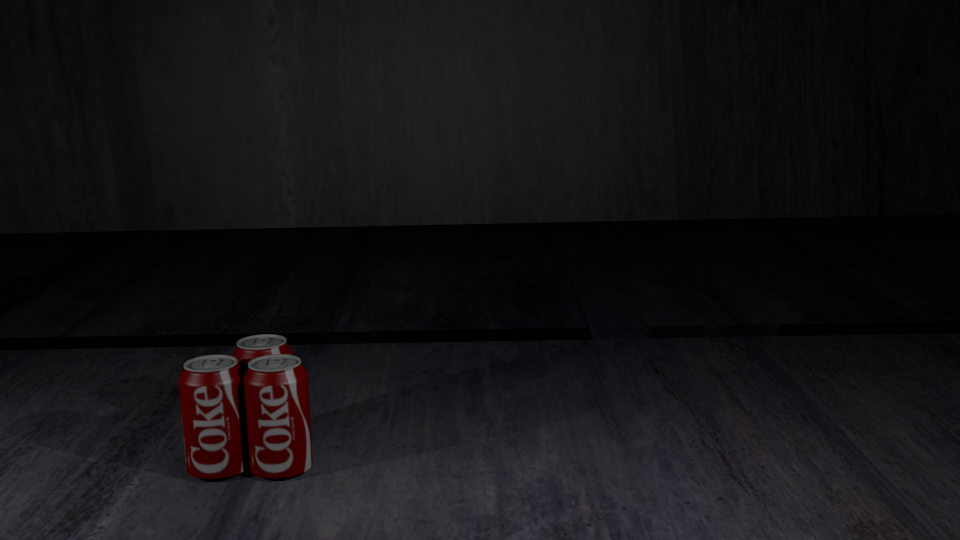cola_can: (179, 355, 246, 475), (243, 355, 309, 474), (232, 335, 291, 448)
